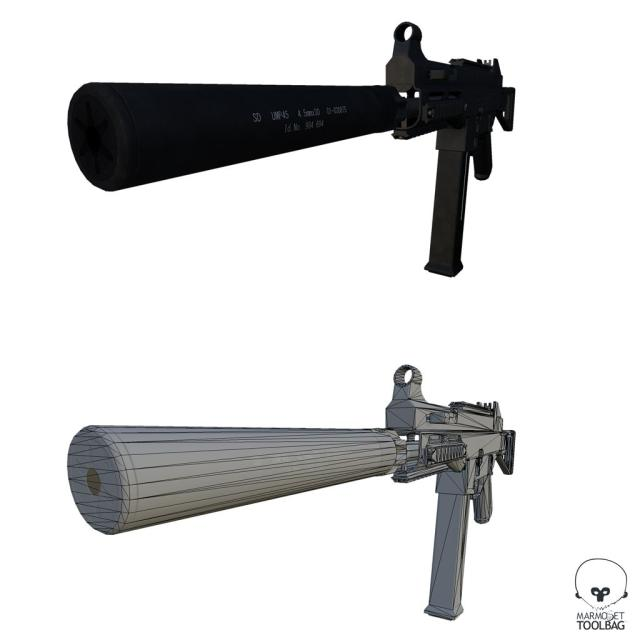Gun: (7, 11, 572, 280), (48, 360, 586, 640)
